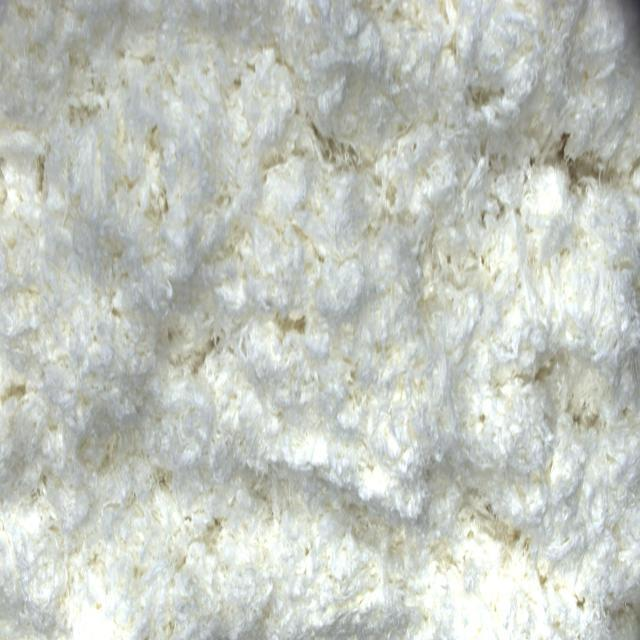dust: (558, 124, 611, 198)
